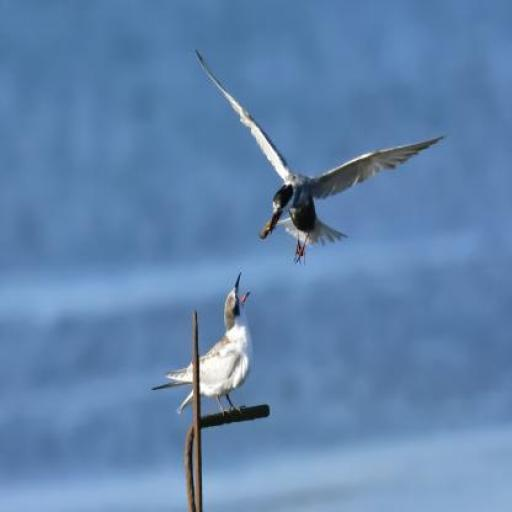bird: (196, 48, 452, 266), (153, 272, 256, 418)
